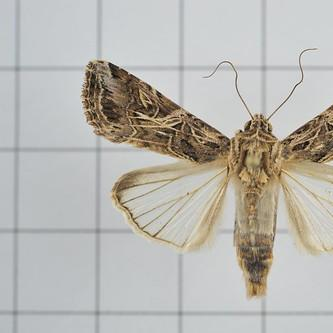Spodoptera litura: (79, 48, 333, 299)
